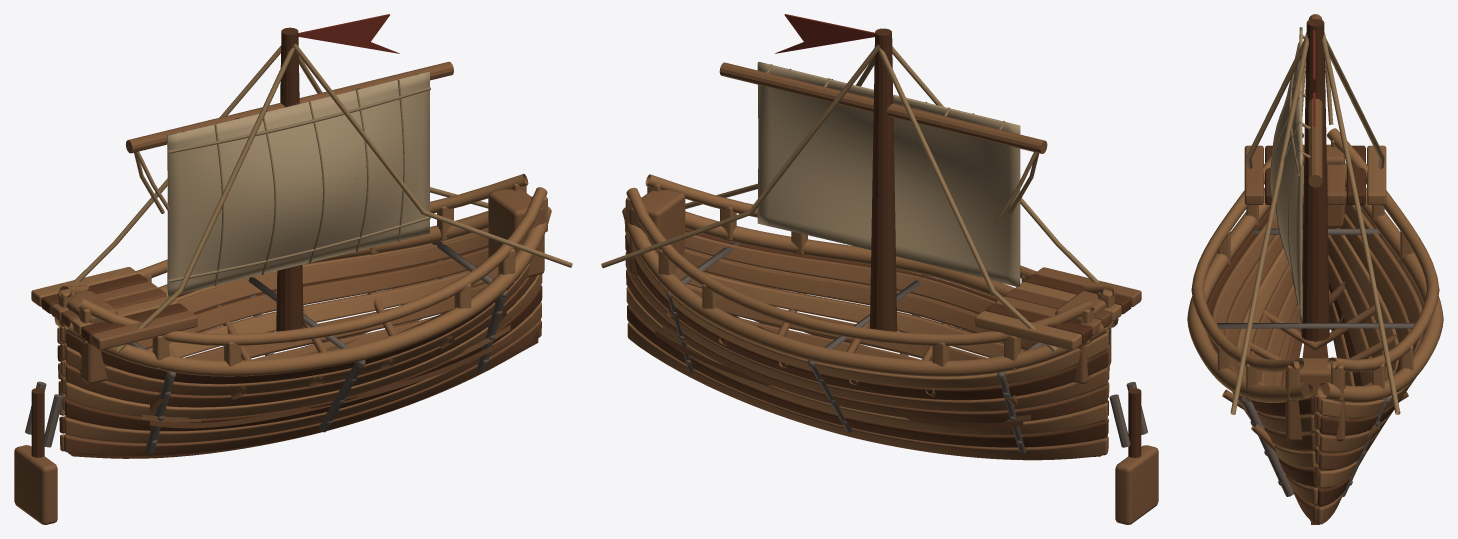
Rendered from navio_medieval.glb.
The picture shows the model from 3 angles, left to right: view 1: azimuth 30°, elevation 25°; view 2: azimuth 150°, elevation 25°; view 3: azimuth 270°, elevation 25°; orthographic projection. The views are drawn at different scales.
Parts seen in each view (by area): view 1: Navio Medieval; view 2: Navio Medieval; view 3: Navio Medieval.
Boxes of the visible parts, box(x1,y1,x2,y2) form: Navio Medieval: box(14, 14, 572, 524); Navio Medieval: box(601, 14, 1158, 524); Navio Medieval: box(1187, 14, 1443, 524).
Bounding box in the file's own units: 3.12 × 2.43 × 1.31.
